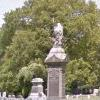Statue: (41, 18, 71, 100)
